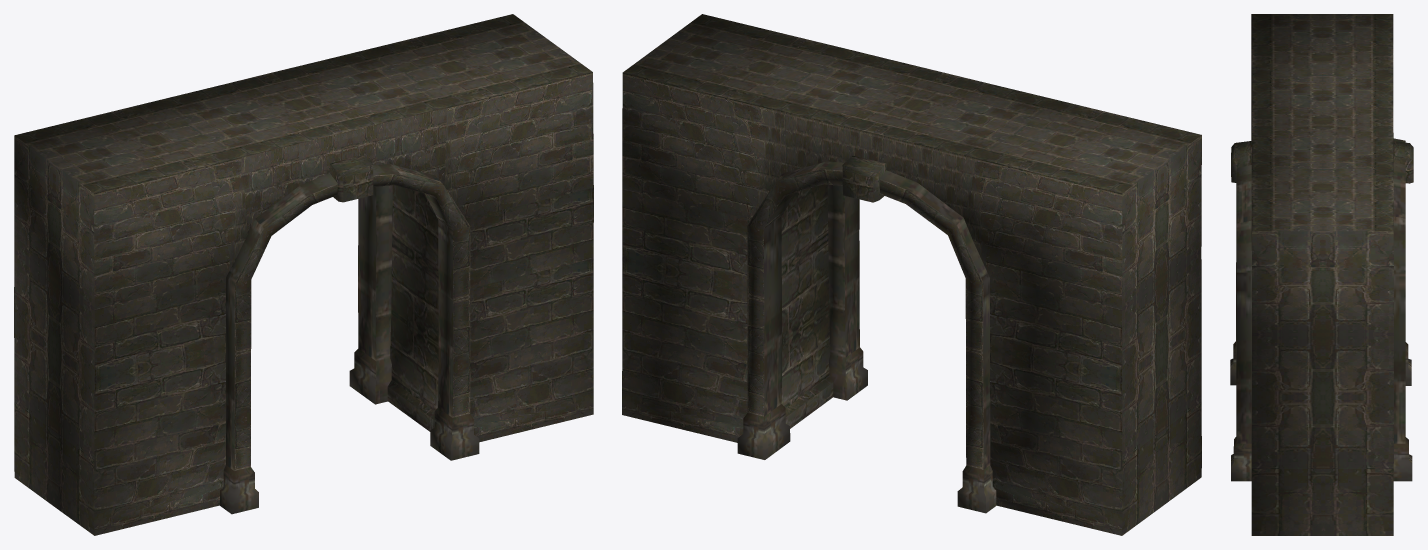
The model's file is S_Build_Forest064.FBX.
3 renders of one model, left to right at view 1: azimuth 30°, elevation 25°; view 2: azimuth 150°, elevation 25°; view 3: azimuth 270°, elevation 25°, orthographic. The views are drawn at different scales.
Visible parts, largest first — view 1: S_Build_Forest064; view 2: S_Build_Forest064; view 3: S_Build_Forest064.
Part boxes in pixels (x1,y1,x2,y2): S_Build_Forest064: [14, 14, 593, 535]; S_Build_Forest064: [622, 14, 1201, 535]; S_Build_Forest064: [1230, 14, 1413, 535].
Size of the model in its own units: 1309 by 467 by 859.
